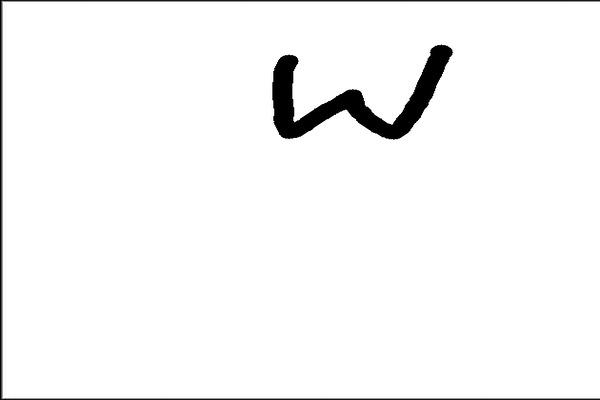w: (256, 25, 458, 151)
